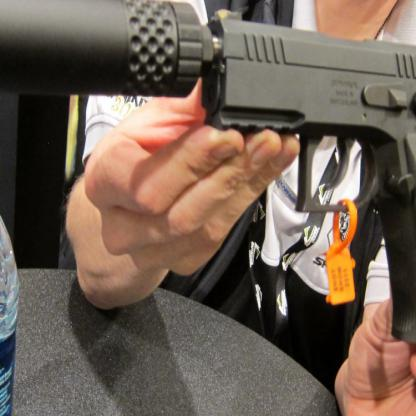gun: (0, 0, 415, 369)
